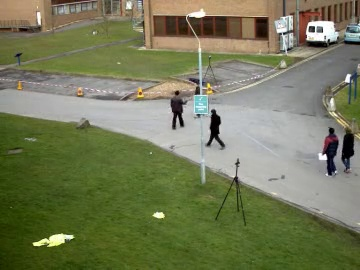person: (206, 108, 224, 151), (169, 92, 186, 130), (208, 109, 223, 148)
